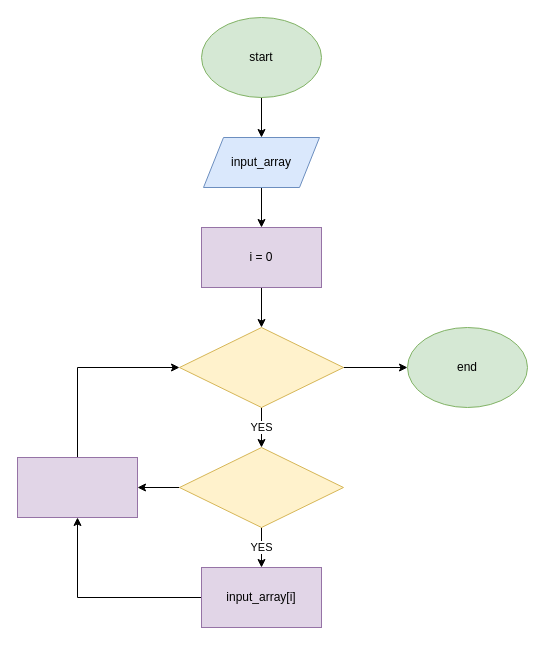
Image size: 545x645. Some labels were removed from this diagram. Here are the shapes that lost their labels. From the top down, the centre of each, then its label:
the point at 261,367: i < input_array.Length
the point at 77,487: i = i + 1
the point at 261,487: input_array[i] < 4
